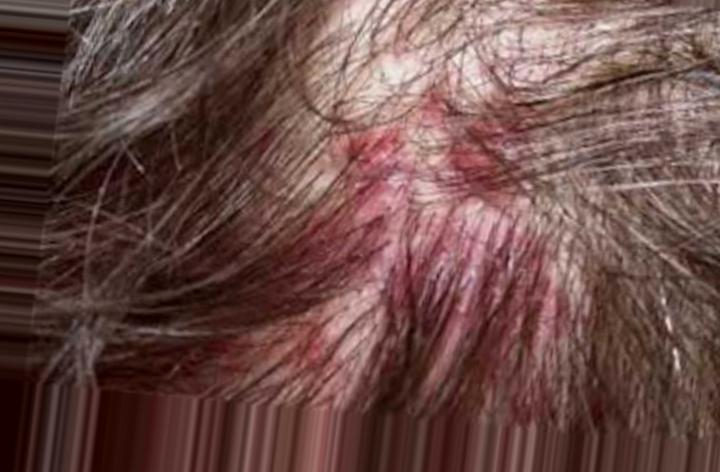Folliculitis: (273, 91, 551, 336)
